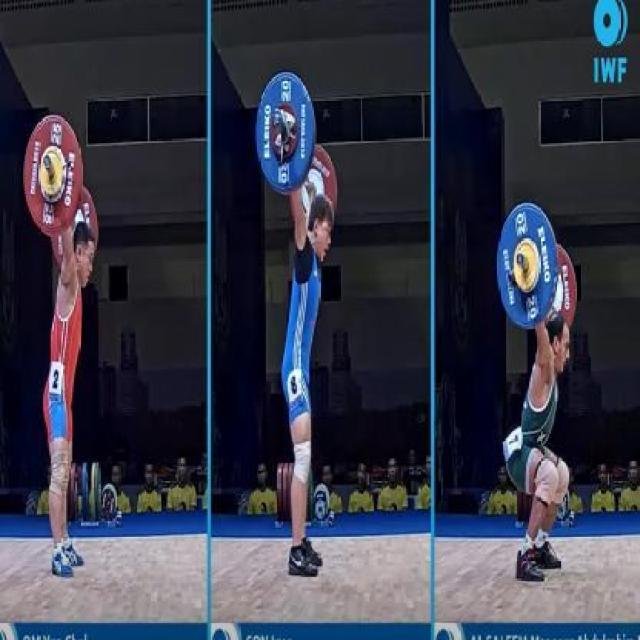barbell: (494, 199, 561, 331), (250, 70, 318, 197), (21, 112, 83, 241)
